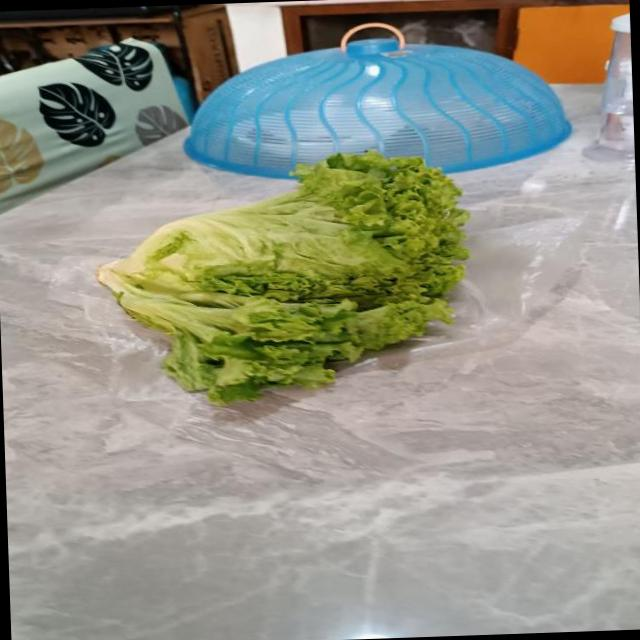Lettuce-Ready-to-Harvest: (95, 151, 469, 407)
